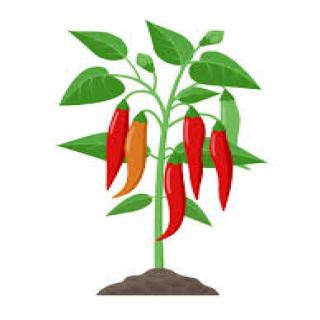Cabai Merah: (180, 117, 212, 200), (159, 167, 190, 246), (118, 122, 149, 198), (106, 102, 131, 192), (213, 125, 237, 214)
